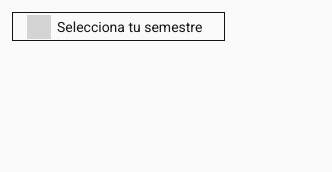
Test: SelectorOpciones › abre la lista, permite elegir y se cierra
Click the button "Selecciona tu semestre" at (119, 26), box [12,12,225,41]
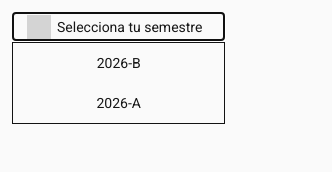
Now the list is shown, box [12,42,225,124]
Click the button "2026-A" at (119, 103), box [13,83,224,123]
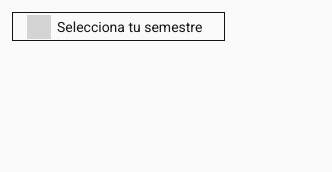
Now the list is gone
